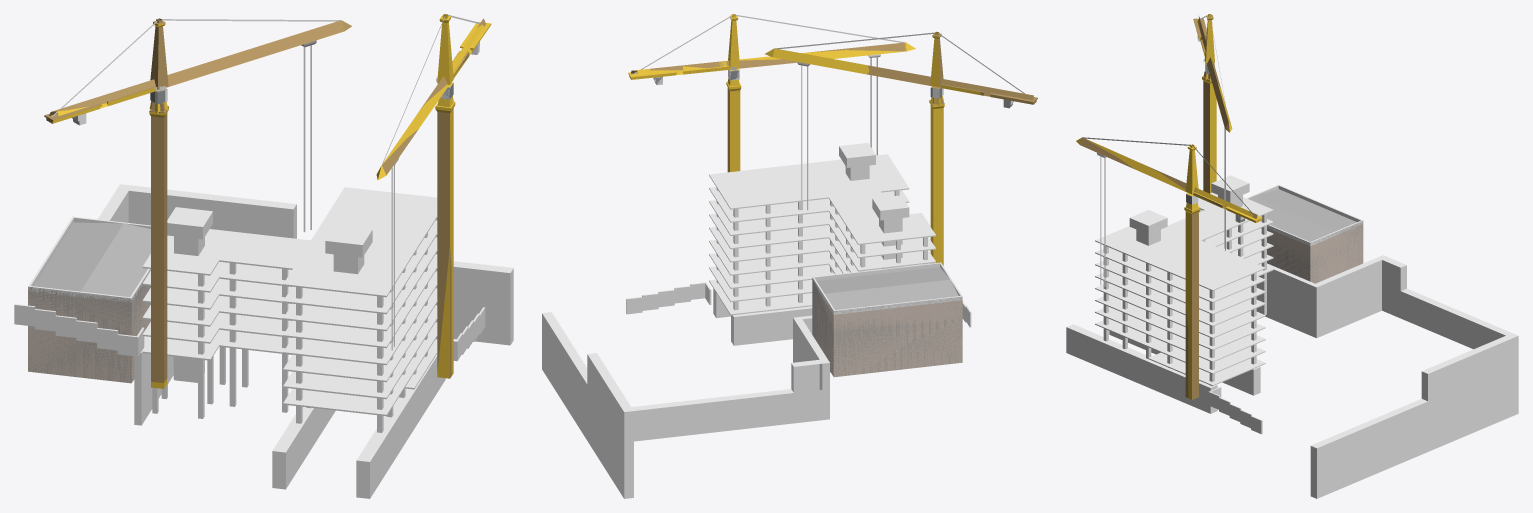
The model's file is tower_construction.dae.
3 renders of one model, left to right at view 1: azimuth 30°, elevation 25°; view 2: azimuth 150°, elevation 25°; view 3: azimuth 270°, elevation 25°, orthographic. The views are drawn at different scales.
Parts seen in each view (by area): view 1: tower_construction_a1000, tower_construction_a500; view 2: tower_construction_a1000, tower_construction_a500; view 3: tower_construction_a1000, tower_construction_a500.
Boxes of the visible parts, x1,y1,x2,y2 form: tower_construction_a1000: (14,14,513,498); tower_construction_a500: (28,18,485,382); tower_construction_a1000: (542,14,1034,498); tower_construction_a500: (631,31,1037,376); tower_construction_a1000: (1066,14,1518,498); tower_construction_a500: (1080,14,1363,399).
Size of the model in its own units: 119 by 121 by 99.23.
